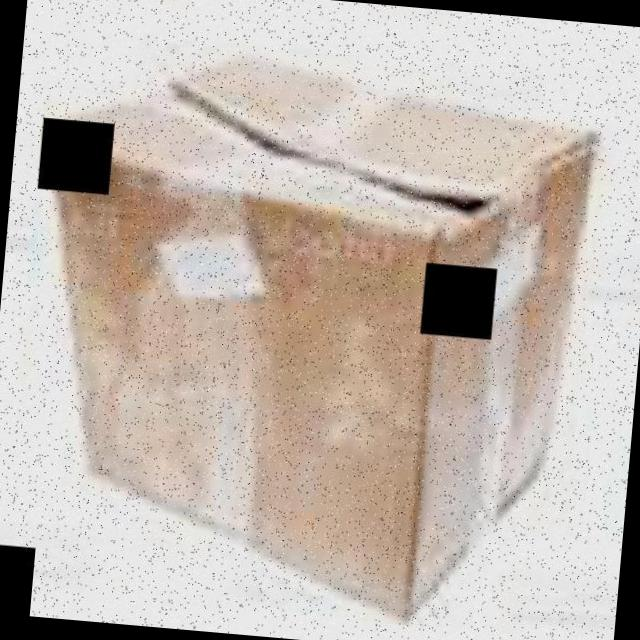box: (8, 31, 606, 636)
